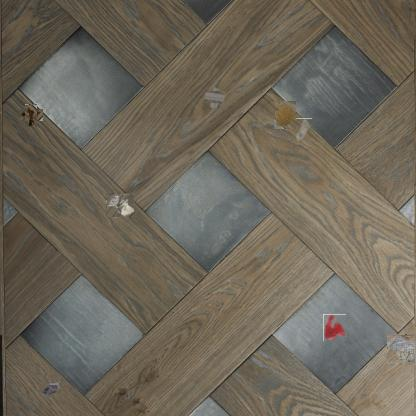dirty: (387, 334, 416, 364), (106, 194, 134, 218), (294, 118, 312, 141), (38, 379, 60, 397), (22, 106, 40, 124), (206, 89, 224, 105)
liquid: (323, 314, 346, 341), (274, 101, 296, 129)
